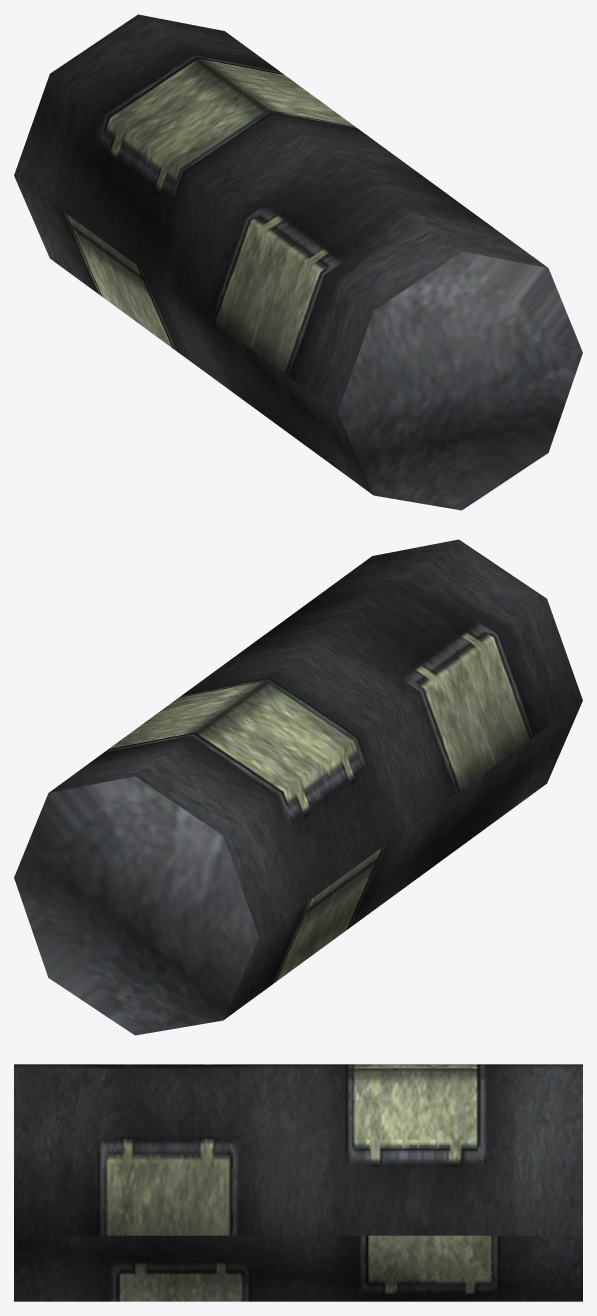
File: t6_wpn_taser_mine_world_LOD3.obj
3 views of the same model, one above another, from view 1: azimuth 30°, elevation 25°; view 2: azimuth 150°, elevation 25°; view 3: azimuth 270°, elevation 25° (orthographic). The views are drawn at different scales.
Visible parts, largest first — view 1: mtl_t6_wpn_taser_mine; view 2: mtl_t6_wpn_taser_mine; view 3: mtl_t6_wpn_taser_mine.
Part boxes in pixels (bbox=[...]): mtl_t6_wpn_taser_mine: bbox=[14, 14, 582, 510]; mtl_t6_wpn_taser_mine: bbox=[14, 539, 582, 1035]; mtl_t6_wpn_taser_mine: bbox=[14, 1064, 582, 1301].
Bounding box in the file's own units: 14.92 × 15.06 × 34.12.
